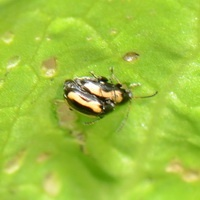insect: (64, 68, 157, 117)
